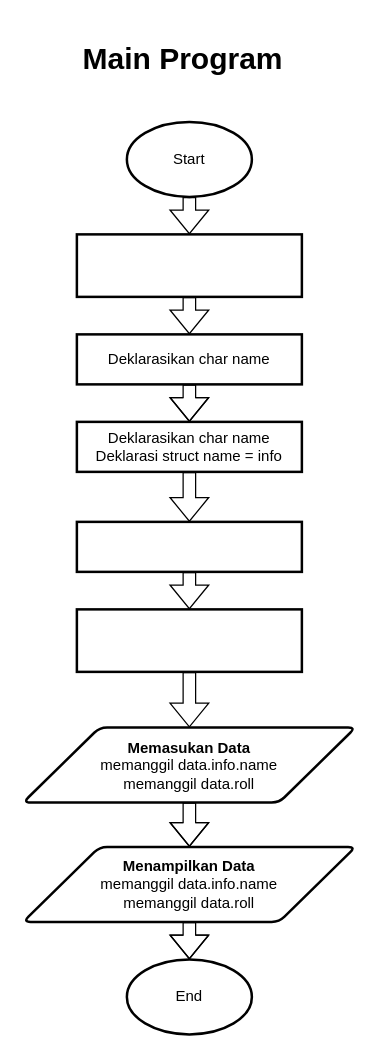
Image size: 378x1056. Some labels were removed from this diagram. The shapes that lost their labels are listed below. From the top down, each one's box as (x1, y1, x2, y2) in pixels, then its label:
(75, 232, 302, 298): Deklarasikan Struct name
(75, 520, 302, 572): Deklarasikan struct roll
(75, 608, 302, 672): Struct roll = data
